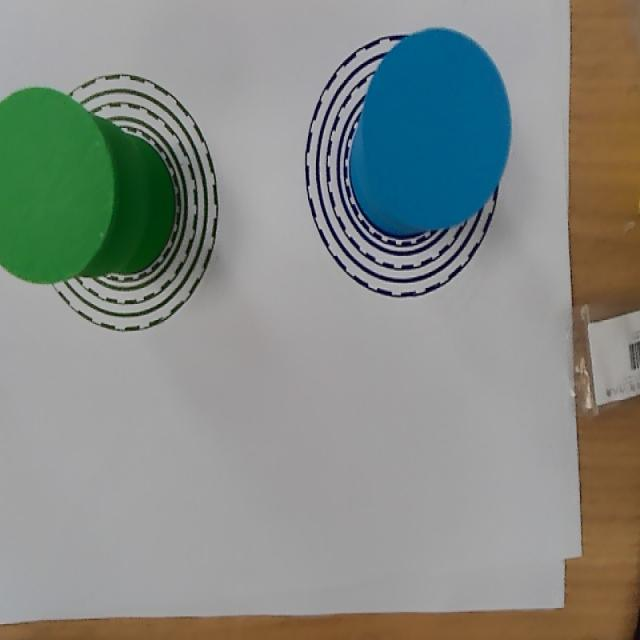b: (364, 27, 512, 225)
